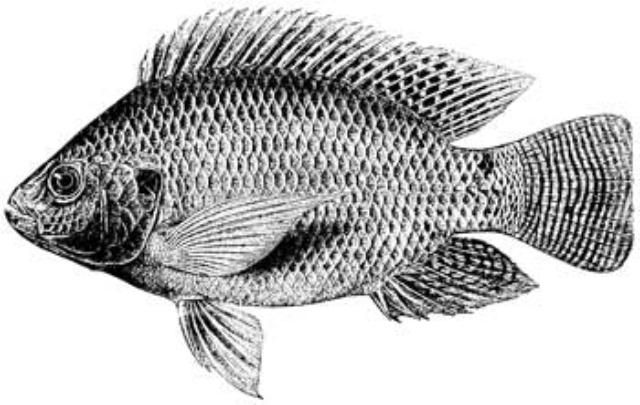Mulut: (0, 162, 40, 262)
Sirip Anal: (362, 237, 548, 329)
Sirip Dada: (133, 179, 369, 289)
Sirip Ekor: (496, 99, 640, 283)
Sirip Perut: (164, 286, 286, 405)
Sirip Punggung: (132, 1, 540, 147)
